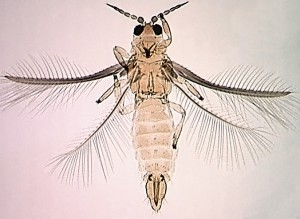Thripidae: (2, 2, 300, 217)
